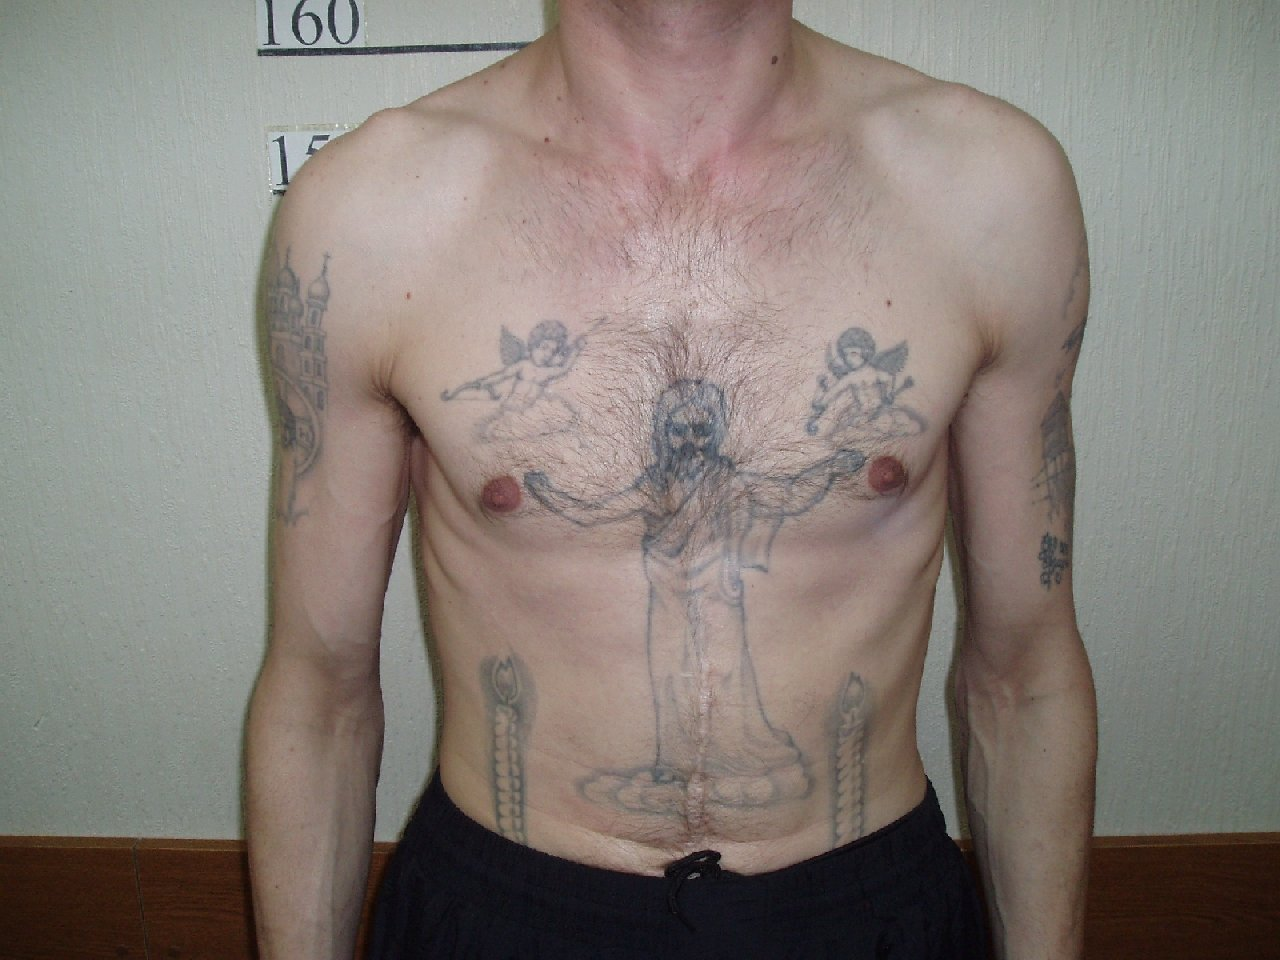tatu1_angel: (422, 304, 593, 446), (792, 321, 926, 452)
